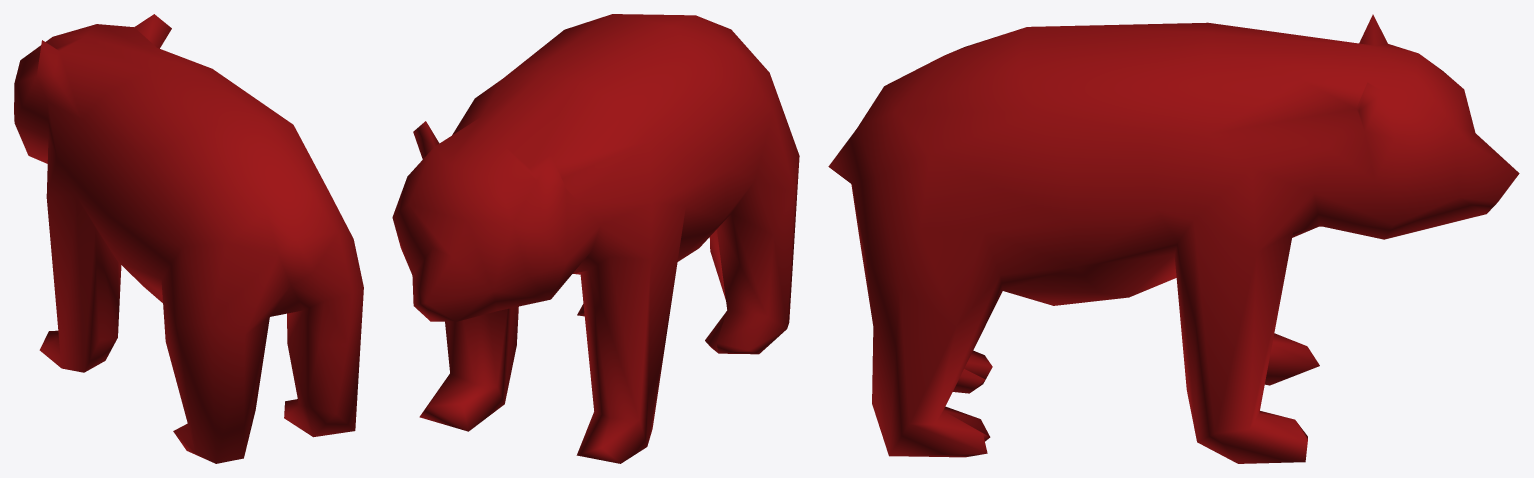
Rendered from bear.obj.
3 renders of one model, left to right at view 1: azimuth 30°, elevation 25°; view 2: azimuth 150°, elevation 25°; view 3: azimuth 270°, elevation 25°, orthographic. The views are drawn at different scales.
Parts seen in each view (by area): view 1: Free+Pack+-+Lowpoly+Animal.003; view 2: Free+Pack+-+Lowpoly+Animal.003; view 3: Free+Pack+-+Lowpoly+Animal.003.
Boxes of the visible parts, box(x1,y1,x2,y2) form: Free+Pack+-+Lowpoly+Animal.003: box(14, 14, 363, 463); Free+Pack+-+Lowpoly+Animal.003: box(392, 14, 799, 463); Free+Pack+-+Lowpoly+Animal.003: box(828, 14, 1519, 463).
Size of the model in its own units: 1.07 by 1.54 by 2.57.
